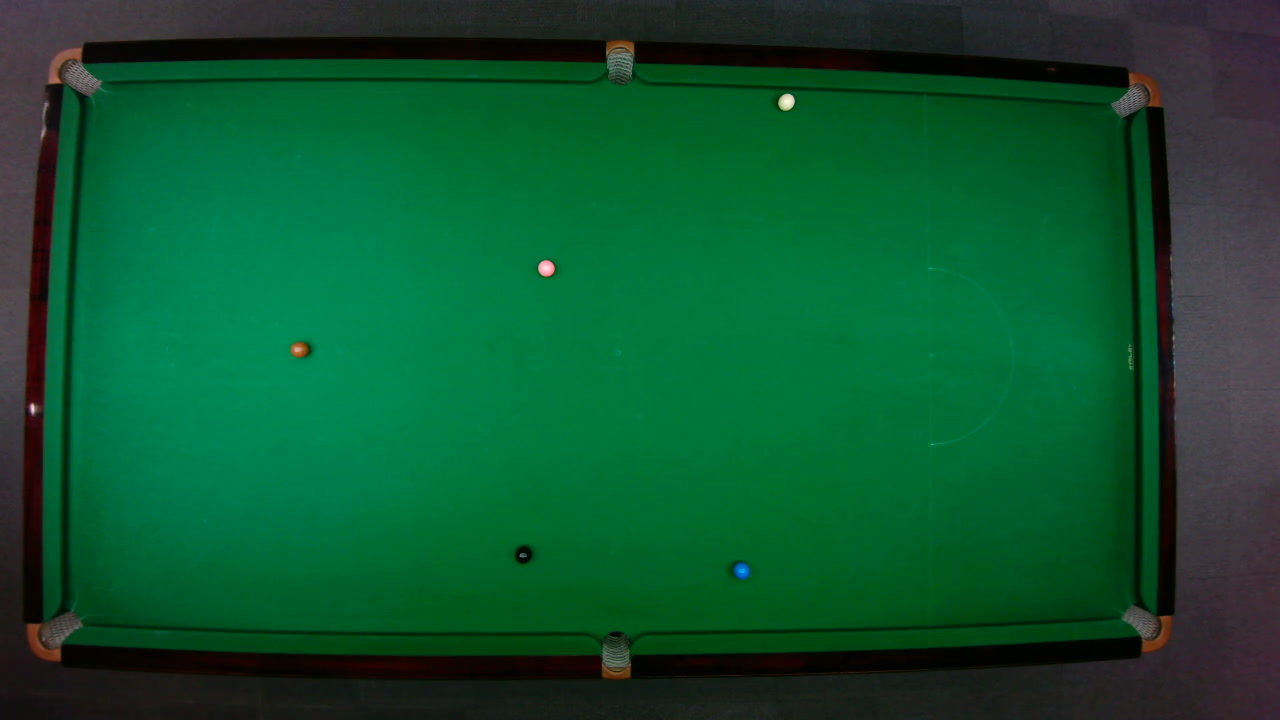bag: (25, 609, 83, 661), (45, 46, 101, 96), (1119, 603, 1171, 652), (1108, 71, 1161, 118), (601, 629, 630, 680), (605, 38, 633, 85)
black: (513, 544, 532, 563)
blue: (731, 560, 750, 579)
brown: (289, 340, 309, 358)
pink: (536, 258, 555, 277)
white: (776, 92, 795, 111)
zone: (927, 266, 1013, 446)
